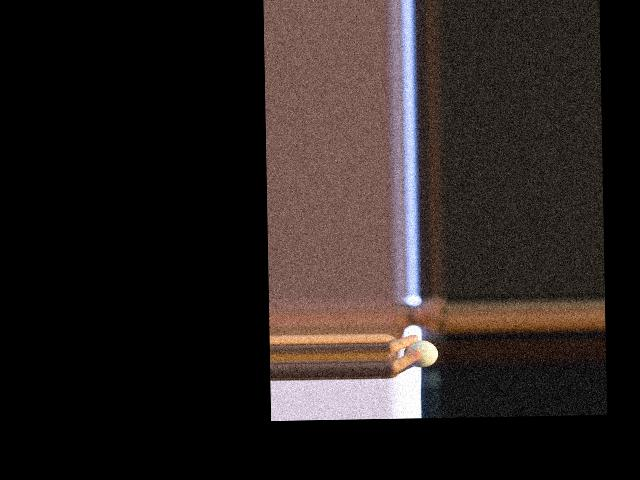egg: (403, 339, 438, 367)
